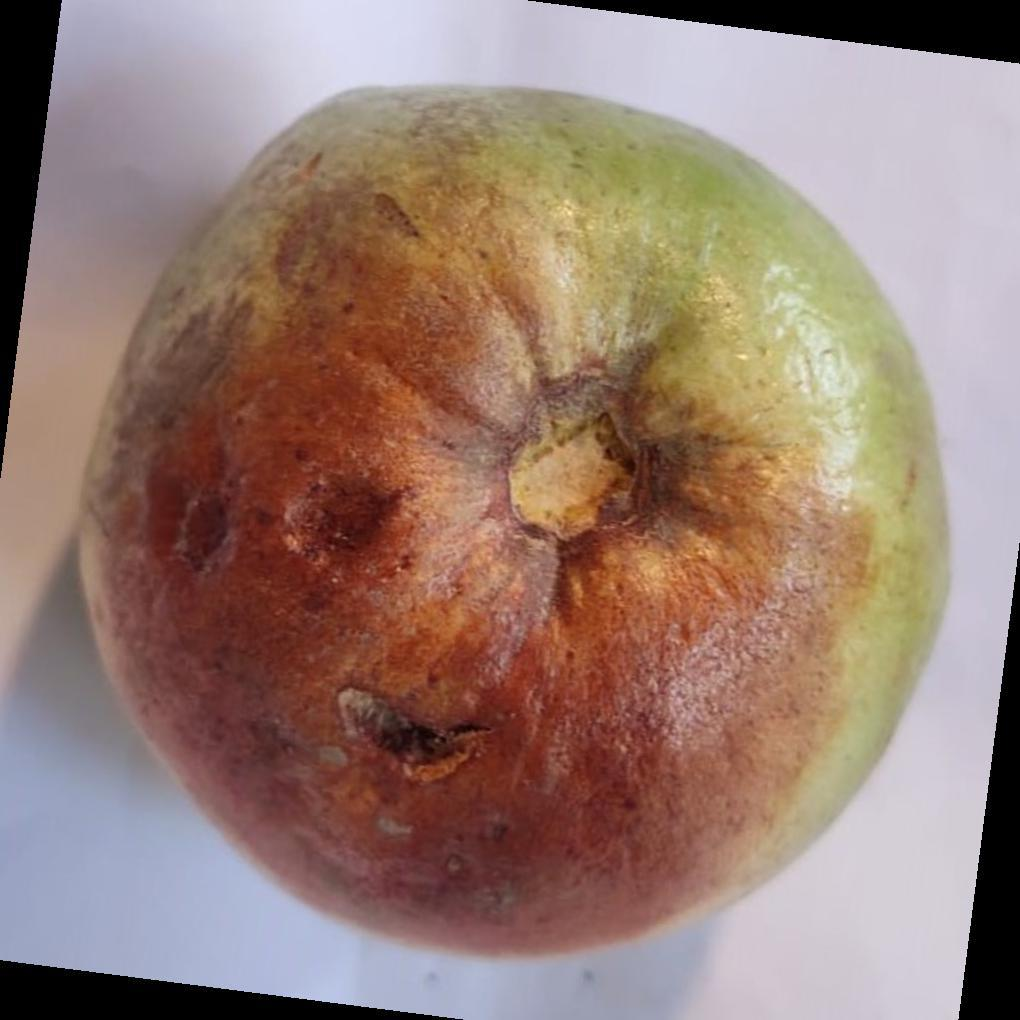FreshOrange: (70, 85, 953, 968)
